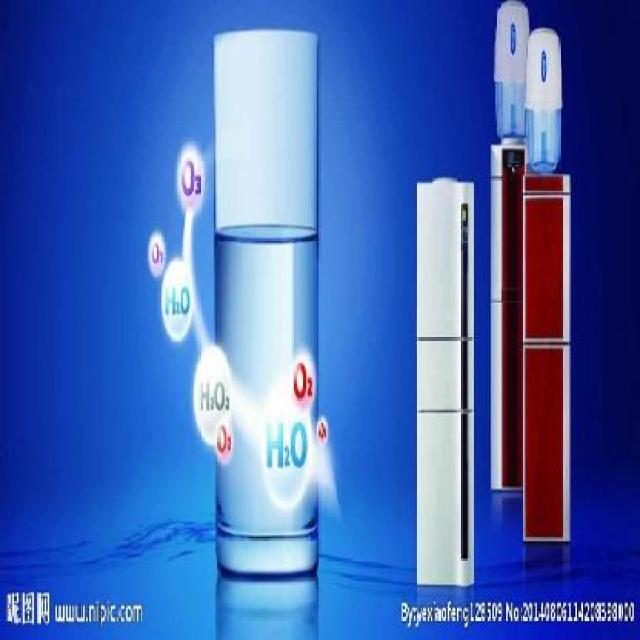cooler: (416, 169, 478, 597), (522, 22, 572, 549)
